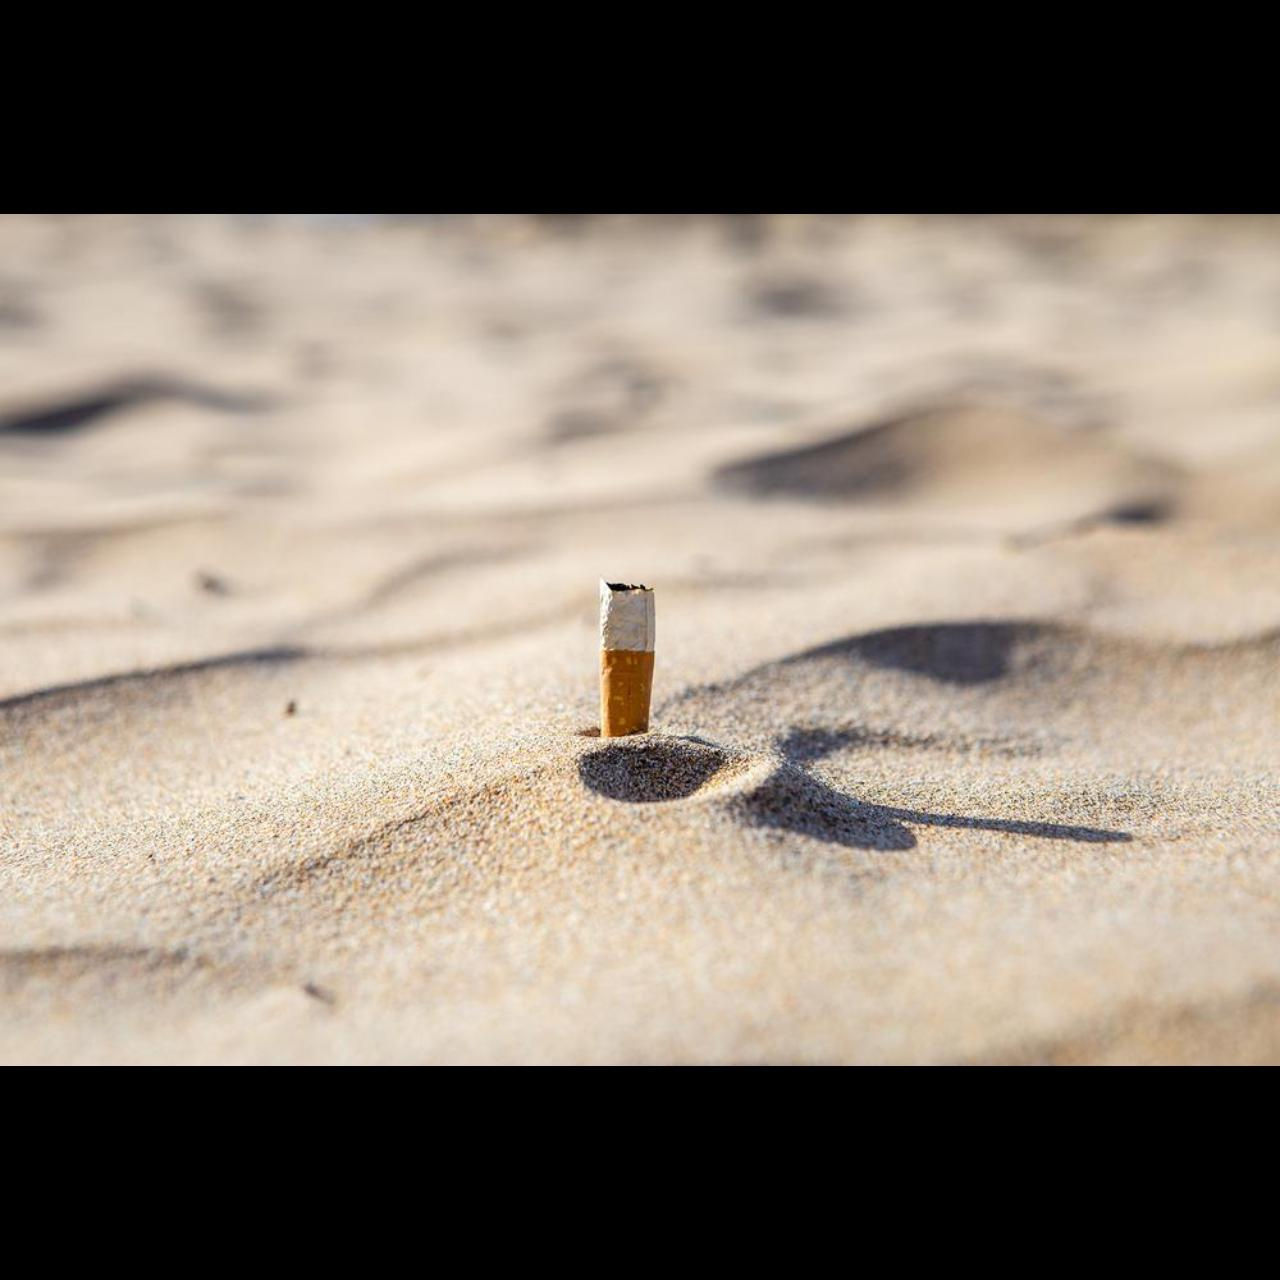cigarettes_butts: (600, 580, 657, 738)
